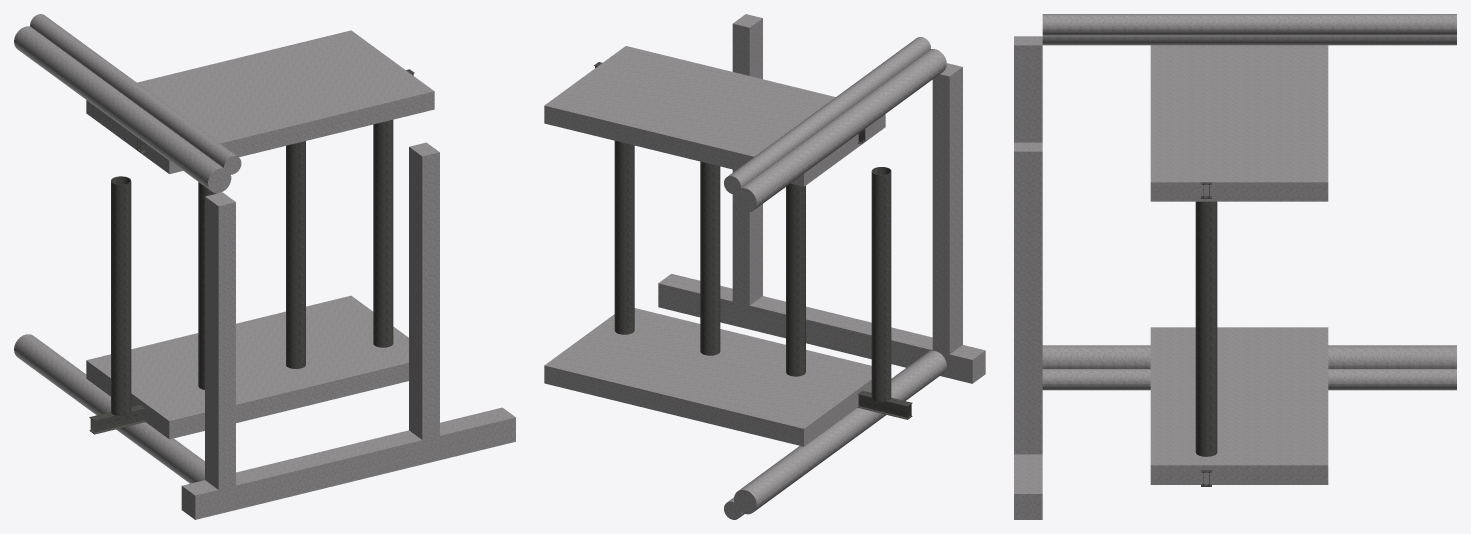
3 views of the same model, side by side, from view 1: azimuth 30°, elevation 25°; view 2: azimuth 150°, elevation 25°; view 3: azimuth 270°, elevation 25° (orthographic). The views are drawn at different scales.
Parts seen in each view (by area): view 1: 0_1_3_3_0_3; view 2: 0_1_3_3_0_3; view 3: 0_1_3_3_0_3.
Part boxes in pixels (bbox=[...]): 0_1_3_3_0_3: bbox=[14, 14, 515, 519]; 0_1_3_3_0_3: bbox=[544, 14, 985, 519]; 0_1_3_3_0_3: bbox=[1014, 14, 1456, 519].
Bounding box in the file's own units: 11.46 × 11.5 × 12.33.
Materials: 17 (17 with a texture image).
